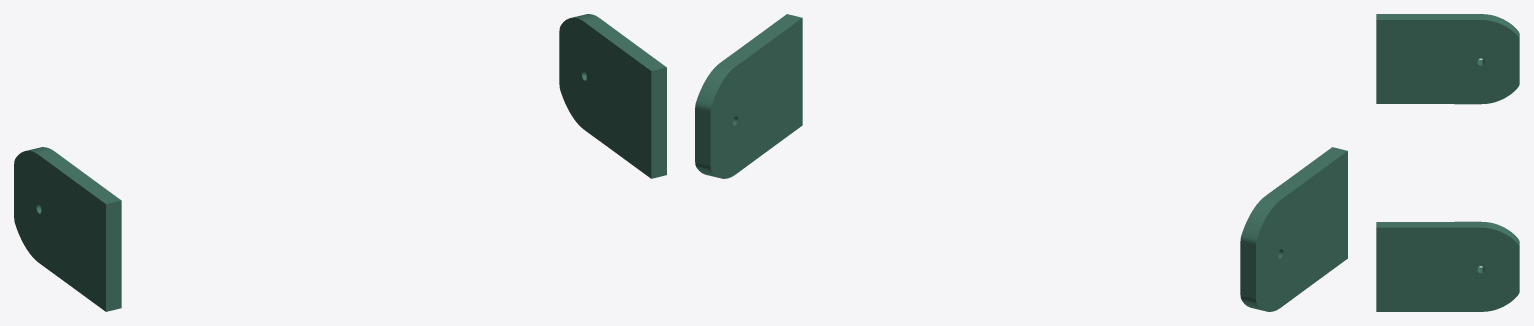
File: Blancer_SBR_Assembly_7_vis_7.dae
The picture shows the model from 3 angles, left to right: view 1: azimuth 30°, elevation 25°; view 2: azimuth 150°, elevation 25°; view 3: azimuth 270°, elevation 25°; orthographic projection. The views are drawn at different scales.
Parts seen in each view (by area): view 1: Node_0000020B6860EBF0; view 2: Node_0000020B6860EBF0; view 3: Node_0000020B6860EBF0.
Boxes of the visible parts, x1,y1,x2,y2 form: Node_0000020B6860EBF0: (14,14,666,311); Node_0000020B6860EBF0: (695,14,1347,311); Node_0000020B6860EBF0: (1376,14,1519,311).
Bounding box in the file's own units: 0.0652 × 0.012 × 0.0185.
